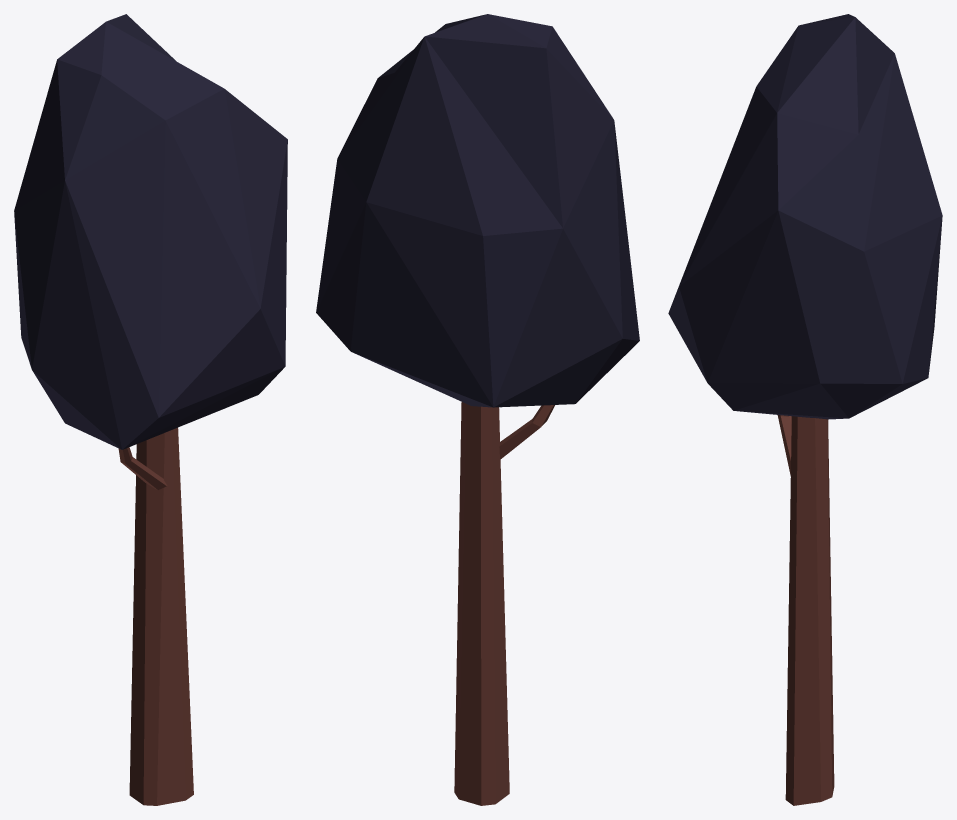
Rendered from tree_small.fbx.
3 renders of one model, left to right at view 1: azimuth 30°, elevation 25°; view 2: azimuth 150°, elevation 25°; view 3: azimuth 270°, elevation 25°, orthographic. The views are drawn at different scales.
Parts seen in each view (by area): view 1: Icosphere.001; view 2: Icosphere.001; view 3: Icosphere.001.
Part boxes in pixels (x1=…): Icosphere.001: x1=14, y1=14, x2=287, y2=805; Icosphere.001: x1=316, y1=14, x2=639, y2=805; Icosphere.001: x1=668, y1=14, x2=942, y2=805.
Size of the model in its own units: 60.73 by 172 by 56.3.
